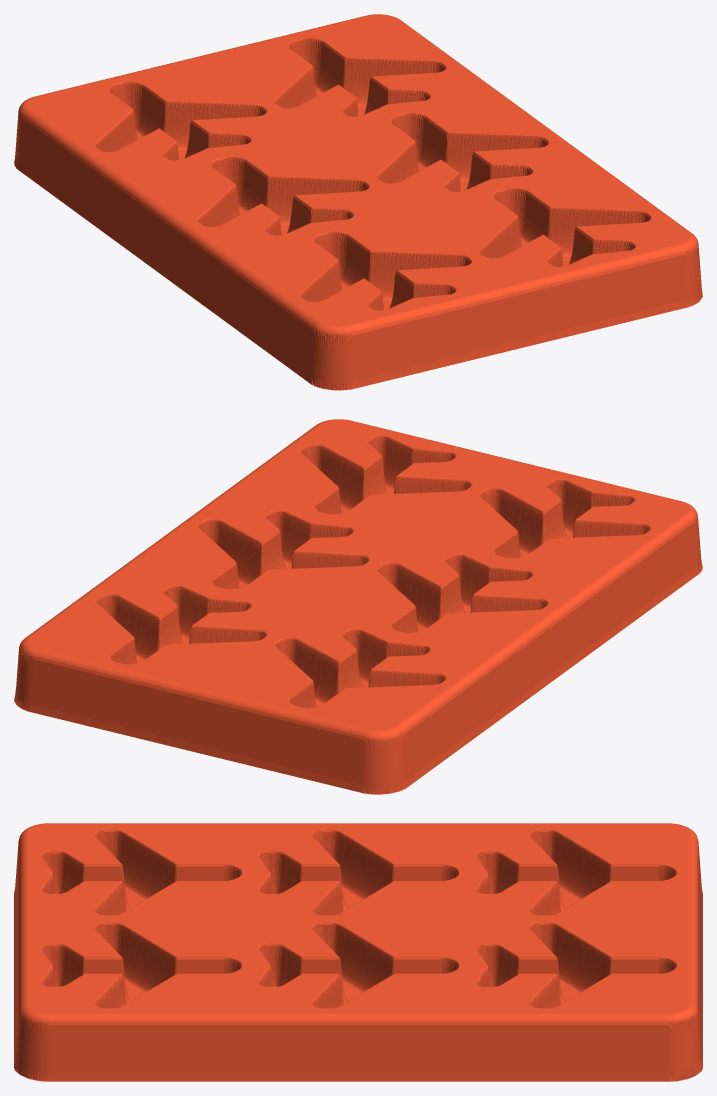
The model's file is mold.glb.
3 views of the same model, one above another, from view 1: azimuth 30°, elevation 25°; view 2: azimuth 150°, elevation 25°; view 3: azimuth 270°, elevation 25° (orthographic). The views are drawn at different scales.
Parts seen in each view (by area): view 1: geometry_0; view 2: geometry_0; view 3: geometry_0.
Boxes of the visible parts, x1=… form: geometry_0: x1=14, y1=14, x2=702, y2=390; geometry_0: x1=14, y1=419, x2=702, y2=794; geometry_0: x1=14, y1=823, x2=702, y2=1081.
Size of the model in its own units: 0.1211 by 0.0175 by 0.1753.
